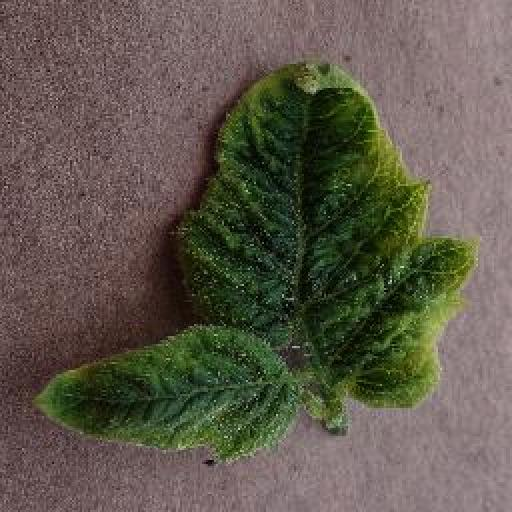disease_tomato: (172, 60, 470, 410), (32, 324, 298, 462)
